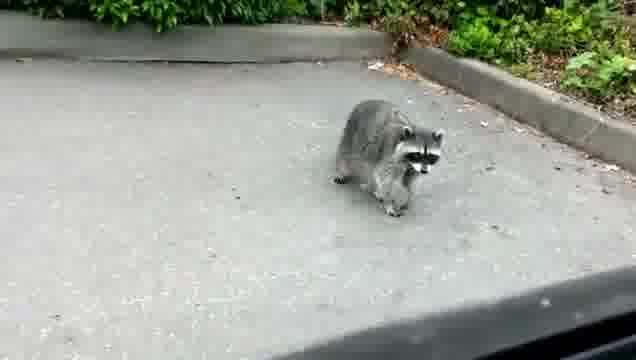raccoon: (324, 95, 453, 222)
